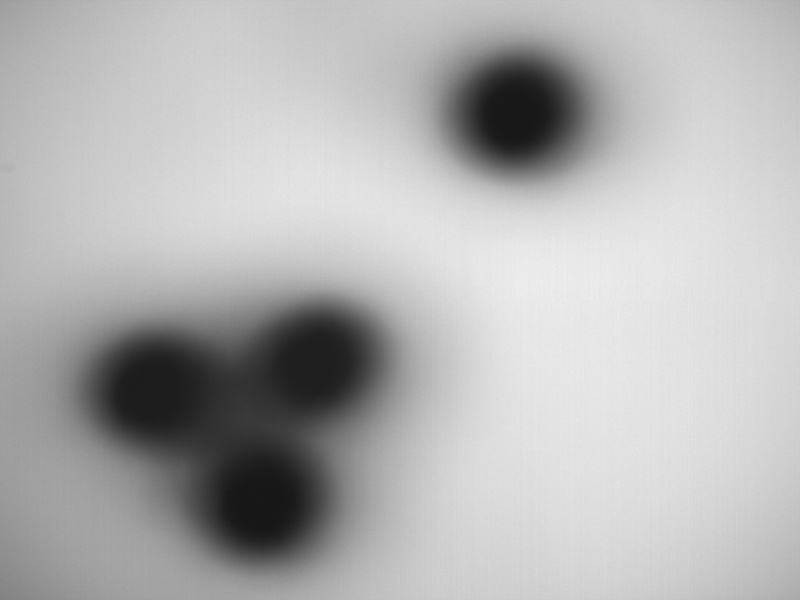bead: (96, 328, 234, 455), (253, 303, 382, 421), (200, 437, 328, 552), (462, 59, 578, 167)
